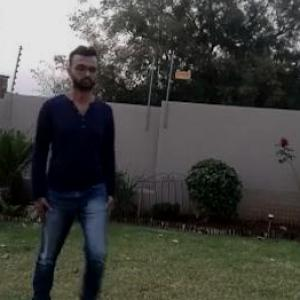follow: (36, 49, 120, 299)
